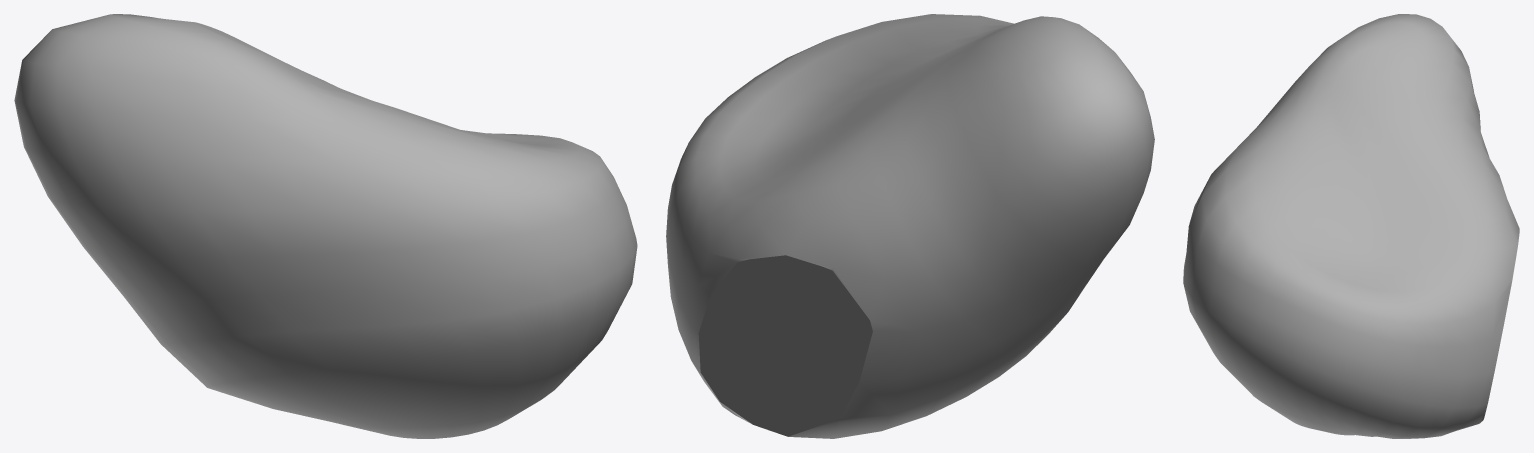
File: RockSmall_2.fbx
The picture shows the model from 3 angles, left to right: view 1: azimuth 30°, elevation 25°; view 2: azimuth 150°, elevation 25°; view 3: azimuth 270°, elevation 25°; orthographic projection. The views are drawn at different scales.
Parts seen in each view (by area): view 1: Sphere; view 2: Sphere; view 3: Sphere.
Part boxes in pixels (left/top/right/bottom): Sphere: left=14, top=14, right=637, bottom=438; Sphere: left=666, top=14, right=1154, bottom=438; Sphere: left=1183, top=14, right=1519, bottom=438.
Size of the model in its own units: 48.85 by 38.88 by 38.16.
